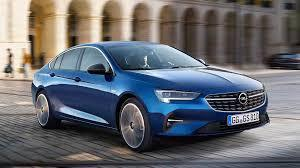opel: (236, 92, 249, 106)
